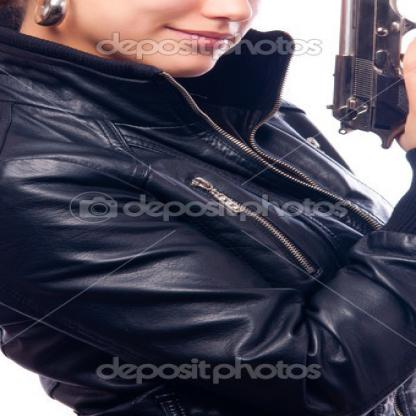gun: (328, 0, 415, 143)
